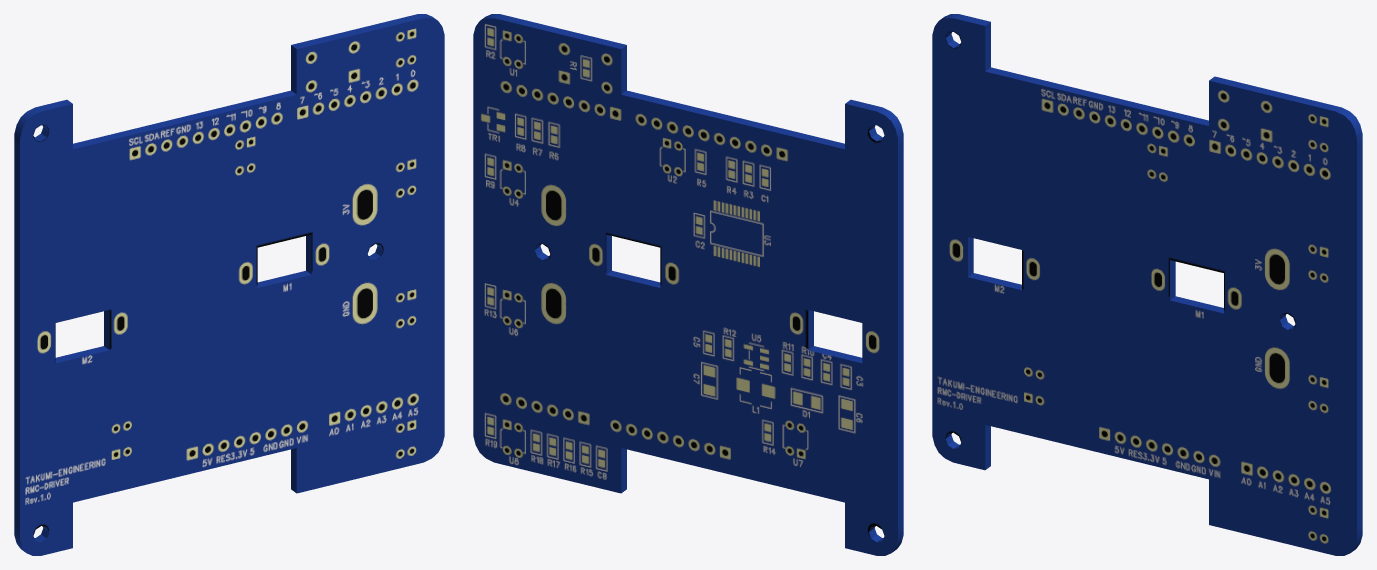
File: RMC-DRIVER.obj
3 views of the same model, side by side, from view 1: azimuth 30°, elevation 25°; view 2: azimuth 150°, elevation 25°; view 3: azimuth 330°, elevation 25° (orthographic).
Visible parts, largest first — view 1: RMC-DRIVER; view 2: RMC-DRIVER; view 3: RMC-DRIVER.
Boxes of the visible parts, x1,y1,x2,y2 form: RMC-DRIVER: (14,14,444,555); RMC-DRIVER: (473,14,903,555); RMC-DRIVER: (932,14,1362,555).
Bounding box in the file's own units: 0.0683 × 0.0683 × 0.0016.
